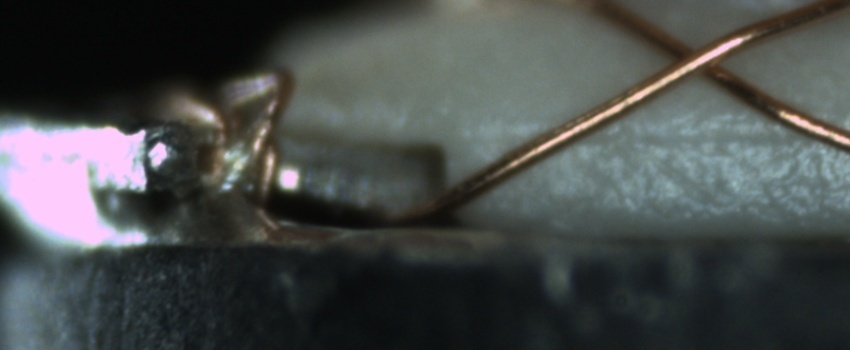CL: (645, 24, 746, 91)
DL: (481, 104, 849, 161)
TE: (164, 64, 300, 216)
